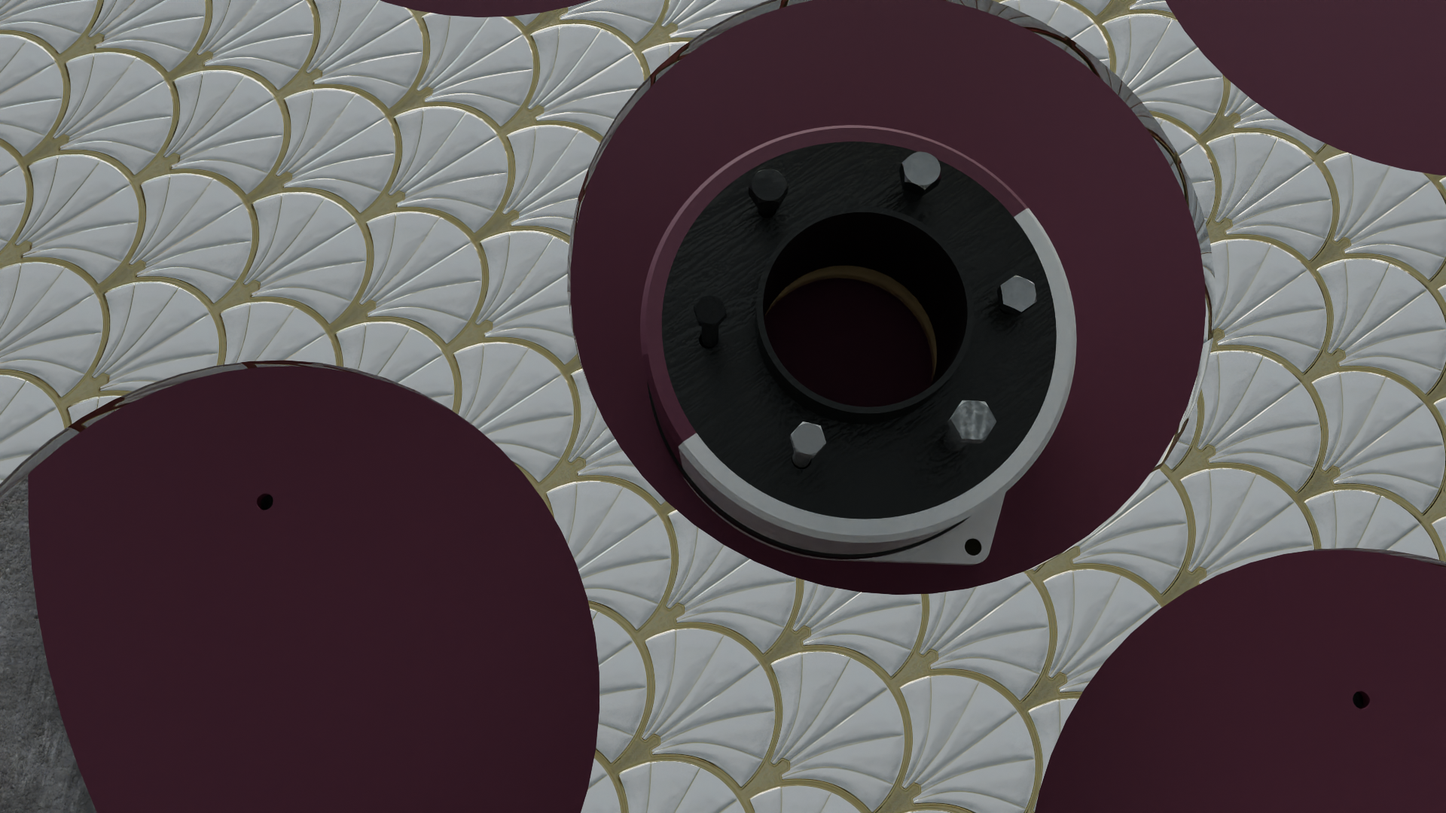bolt: (950, 400, 996, 440), (901, 151, 941, 190), (1000, 275, 1037, 312), (749, 169, 789, 203), (791, 422, 826, 456), (694, 294, 727, 325)
